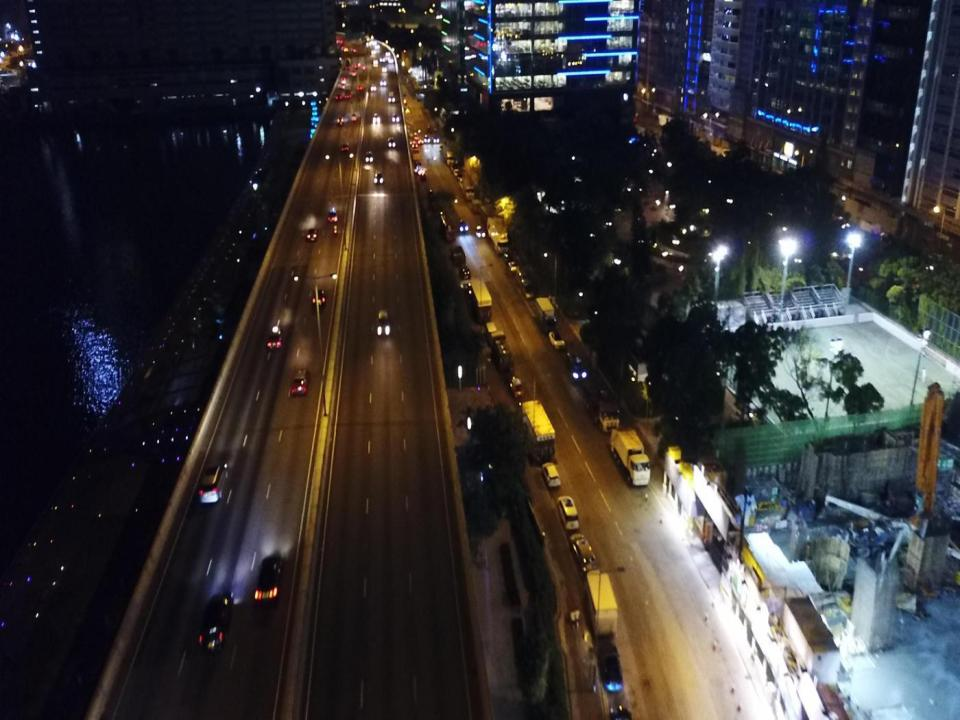bus: (440, 213, 456, 242)
car: (199, 591, 233, 653), (256, 554, 282, 604), (597, 642, 623, 692), (570, 532, 596, 574), (291, 369, 310, 397), (541, 461, 560, 487), (568, 353, 586, 380), (267, 326, 283, 349), (509, 373, 523, 398), (548, 330, 564, 349), (377, 311, 389, 336), (313, 289, 326, 309), (516, 270, 526, 284), (307, 228, 317, 241), (374, 171, 384, 184), (364, 150, 373, 164), (327, 210, 337, 222), (460, 219, 467, 231), (476, 226, 484, 236), (504, 252, 512, 262), (388, 137, 396, 146), (341, 142, 350, 150), (510, 262, 519, 270), (372, 114, 380, 122), (432, 135, 440, 143), (337, 117, 344, 125), (391, 114, 398, 122), (424, 135, 430, 143), (351, 112, 356, 121), (457, 174, 463, 181), (371, 84, 376, 92), (380, 79, 385, 87), (412, 141, 418, 147), (454, 169, 460, 175), (335, 95, 342, 100), (373, 58, 378, 64), (354, 63, 360, 68), (351, 71, 357, 76), (358, 85, 364, 90), (419, 138, 424, 144), (382, 67, 387, 72), (380, 57, 385, 62), (386, 51, 390, 56), (389, 59, 393, 63), (341, 85, 345, 89), (372, 49, 375, 54), (361, 65, 366, 68), (375, 45, 379, 48), (352, 49, 356, 52)
truck: (610, 428, 651, 487), (586, 569, 618, 638), (522, 400, 555, 464), (583, 385, 619, 432), (469, 280, 492, 322), (491, 330, 512, 373), (487, 217, 508, 255), (536, 297, 556, 333), (451, 245, 466, 266), (461, 179, 474, 200), (442, 146, 454, 166), (522, 280, 533, 300), (344, 85, 351, 99), (345, 58, 352, 70), (388, 92, 394, 102)
van: (199, 458, 228, 503), (557, 495, 579, 529), (486, 322, 497, 346), (459, 265, 470, 280), (451, 161, 458, 173), (341, 77, 346, 83)
